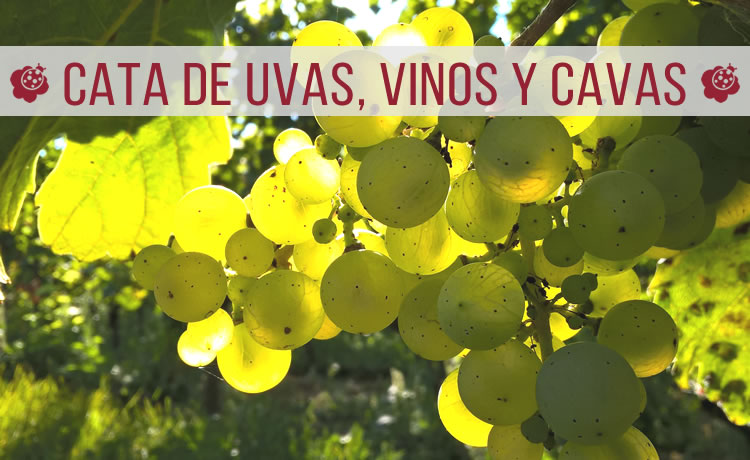Green grapes: (301, 140, 540, 309)
